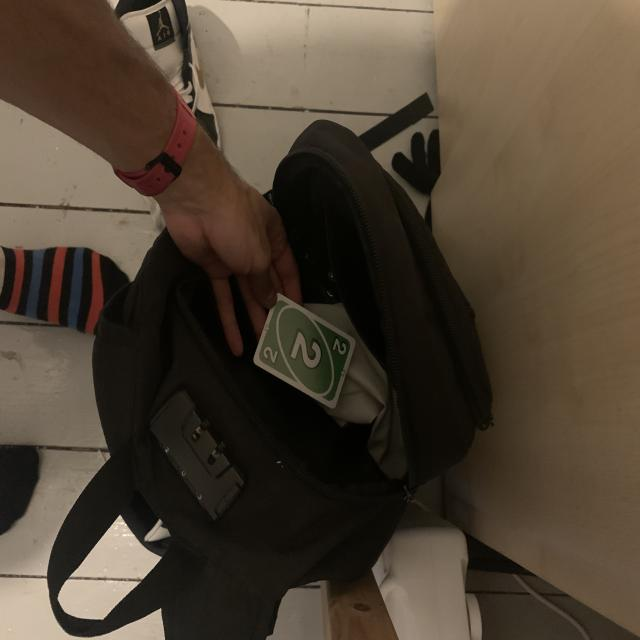lgreen-2: (260, 345, 282, 367)
